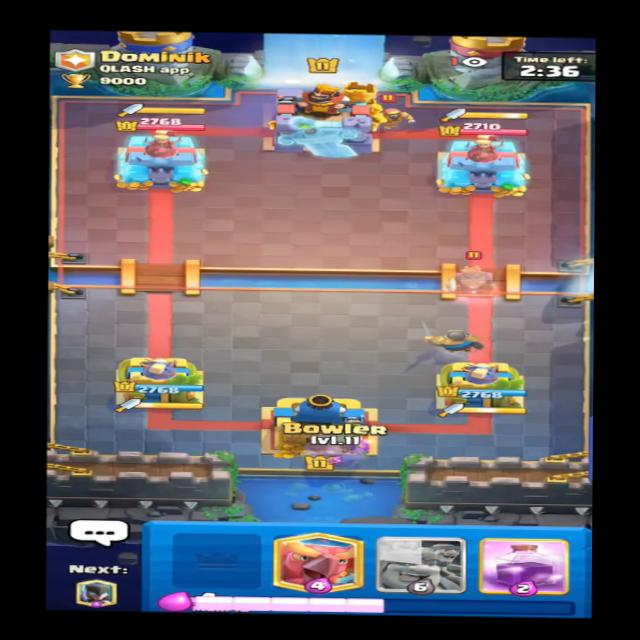royal-ghost: (444, 248, 496, 295)
wizard: (369, 93, 417, 132)
